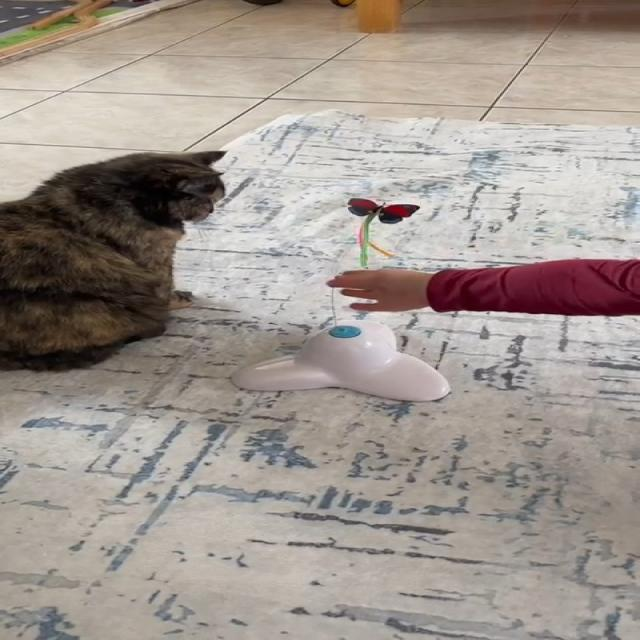authorized: (0, 148, 229, 372)
